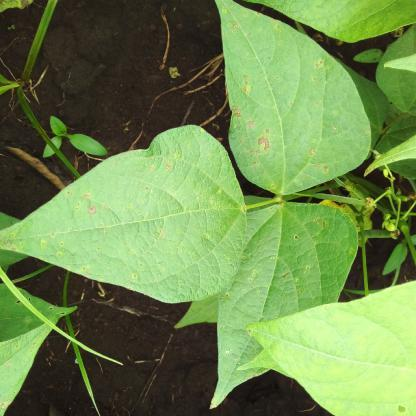Beans_Angular_LeafSpot: (0, 130, 244, 307), (226, 0, 376, 182)
